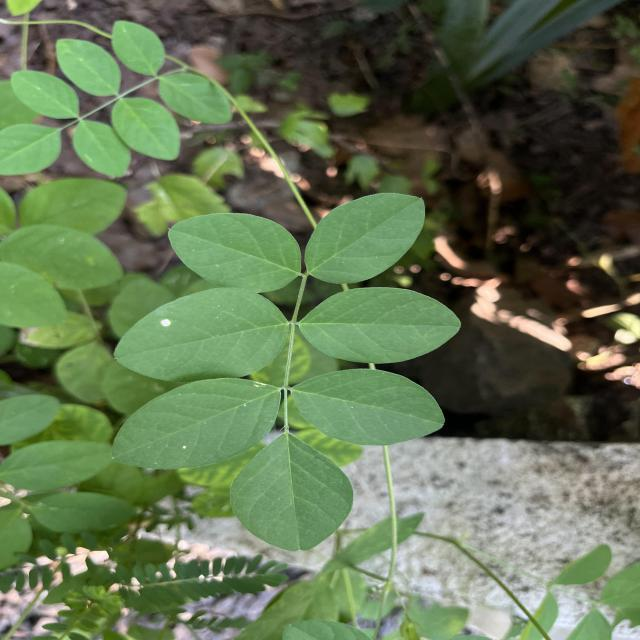Clitoria ternatea: (112, 286, 290, 384), (110, 376, 282, 471), (229, 432, 356, 553), (297, 286, 462, 366), (290, 368, 446, 448), (304, 192, 426, 286), (166, 212, 304, 294)
